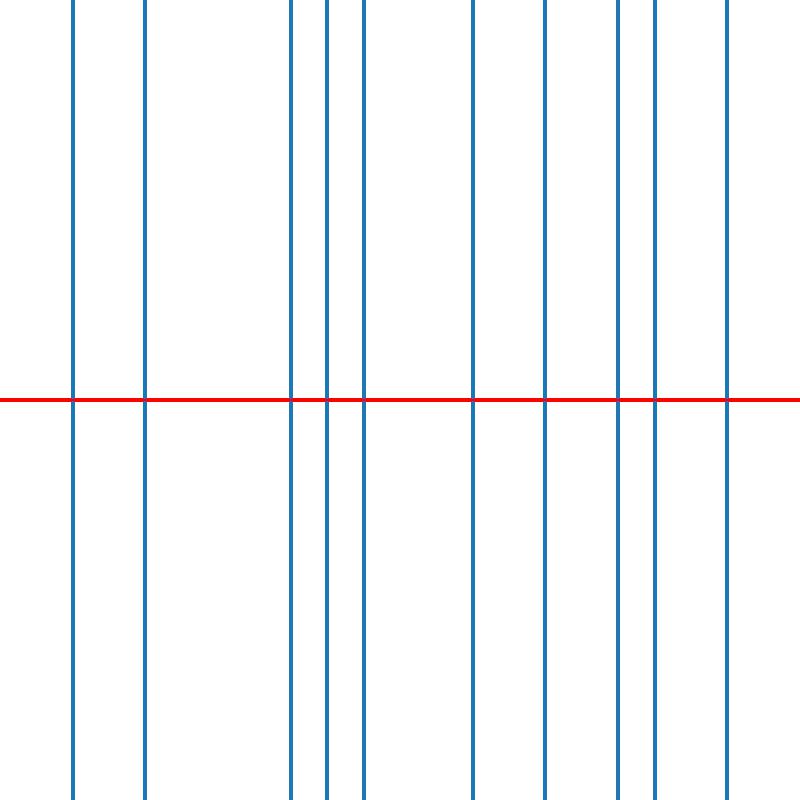root: (541, 396, 549, 404), (650, 396, 658, 404), (141, 396, 149, 404), (723, 396, 730, 404), (614, 396, 621, 404), (360, 396, 367, 404), (323, 396, 330, 404), (287, 396, 294, 404), (69, 396, 76, 404), (469, 396, 476, 404)
